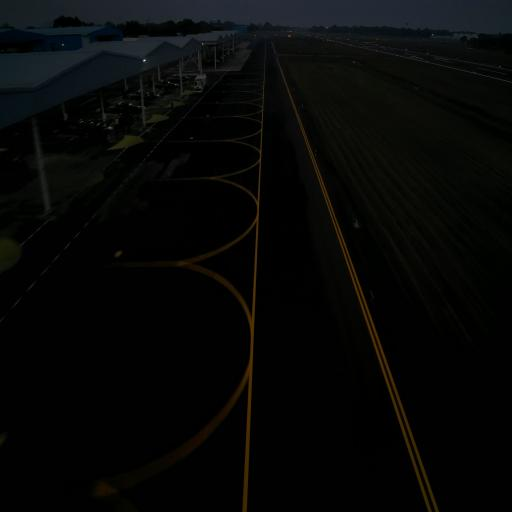on: (354, 218, 358, 226), (301, 103, 304, 106)
